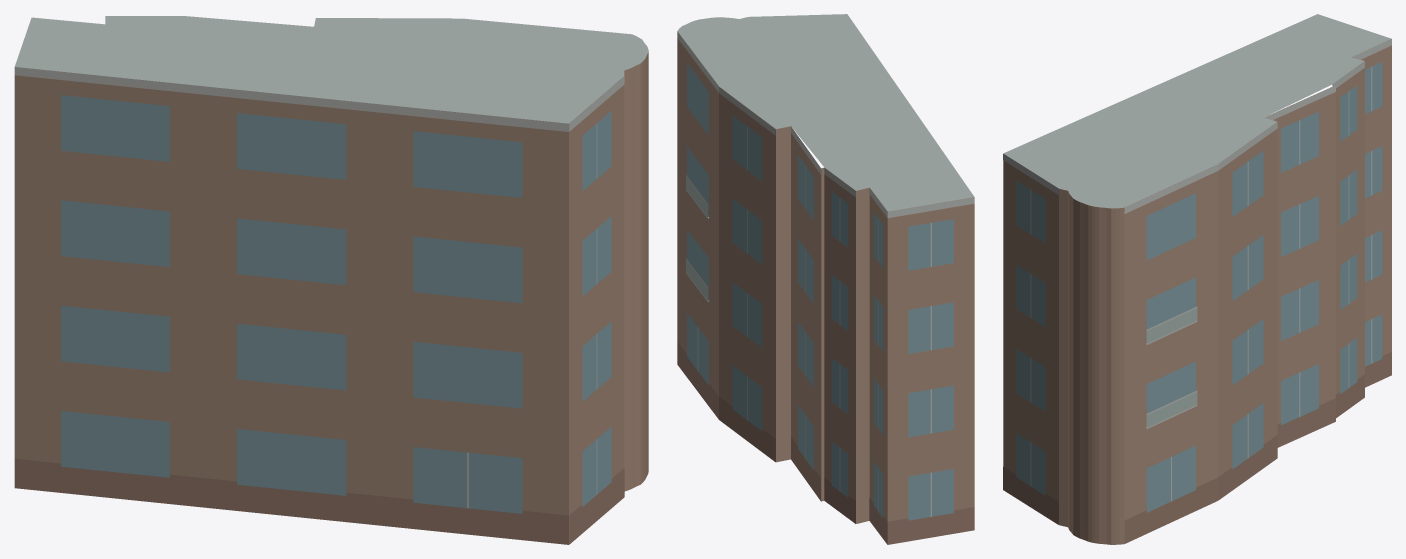
File: survey-upis-33004107.glb
The picture shows the model from 3 angles, left to right: view 1: azimuth 30°, elevation 25°; view 2: azimuth 150°, elevation 25°; view 3: azimuth 270°, elevation 25°; orthographic projection. The views are drawn at different scales.
Visible parts, largest first — view 1: survey-upis-33004107.tmp; view 2: survey-upis-33004107.tmp; view 3: survey-upis-33004107.tmp.
Boxes of the visible parts, bbox=[...] form: survey-upis-33004107.tmp: bbox=[14, 16, 648, 544]; survey-upis-33004107.tmp: bbox=[677, 14, 974, 544]; survey-upis-33004107.tmp: bbox=[1003, 14, 1391, 544].
Size of the model in its own units: 15.25 by 12.3 by 12.89.
